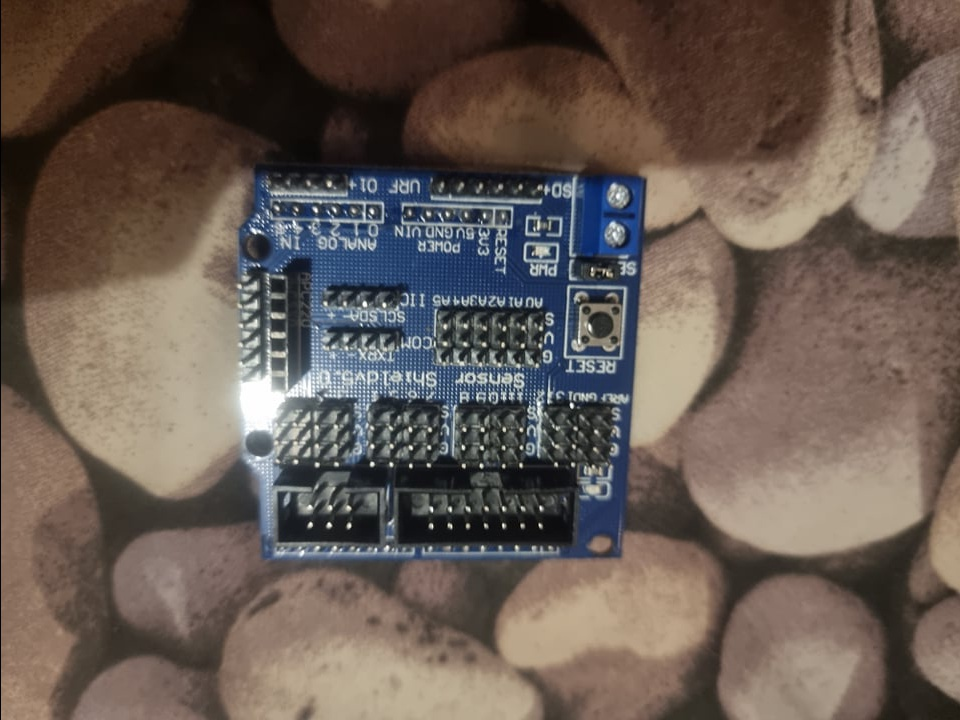5V EXPANSION: (235, 168, 647, 562)
